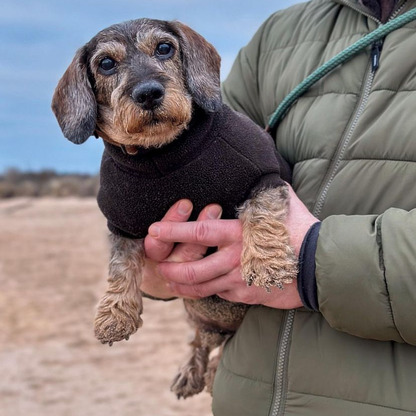dachshund: (45, 7, 280, 332)
